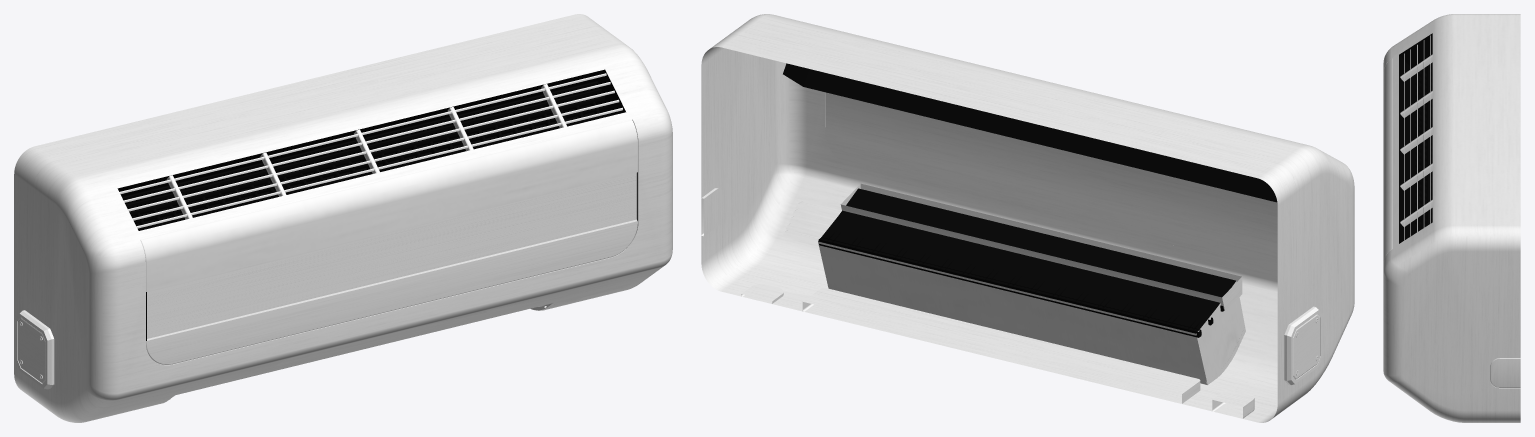
File: AirConditioning.fbx
3 renders of one model, left to right at view 1: azimuth 30°, elevation 25°; view 2: azimuth 150°, elevation 25°; view 3: azimuth 270°, elevation 25°, orthographic. The views are drawn at different scales.
Parts seen in each view (by area): view 1: AirConditioning; view 2: AirConditioning; view 3: AirConditioning.
Boxes of the visible parts, x1,y1,x2,y2 form: AirConditioning: [14, 14, 672, 422]; AirConditioning: [701, 14, 1354, 422]; AirConditioning: [1383, 14, 1520, 422].
Bounding box in the file's own units: 1.57 × 0.3996 × 0.6307.
